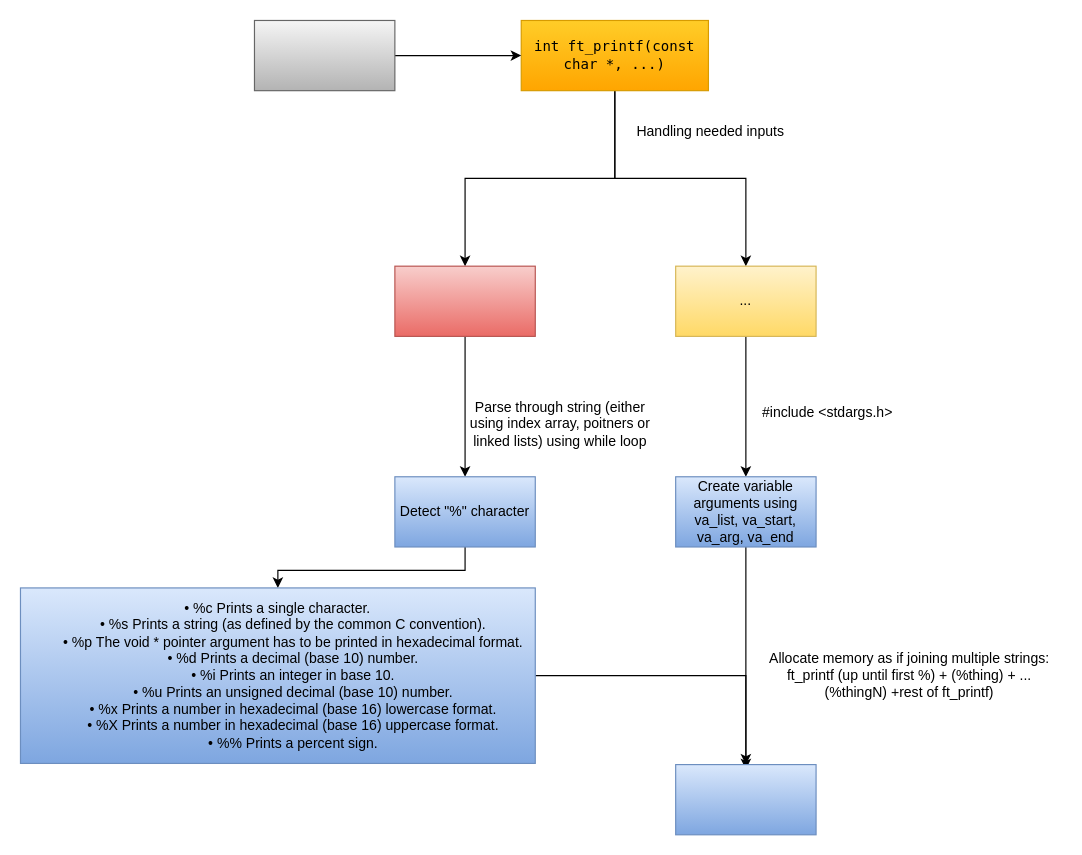
Image size: 1082x855. Some labels were removed from this diagram. Here are the shapes that lost their labels. From the top down, the box of each, then its label:
(253, 19, 395, 91): Include header file
(394, 265, 535, 336): const char *
(675, 763, 816, 835): Iterate through ft_printf and display characters
